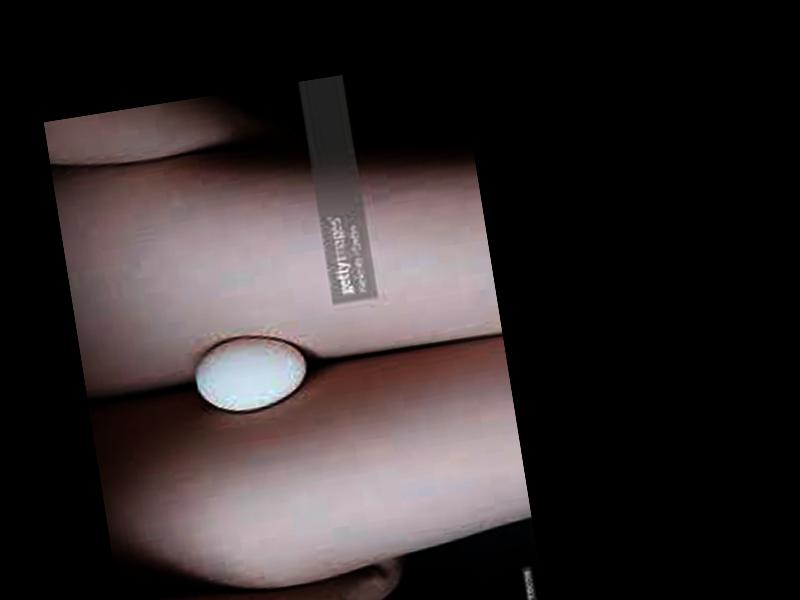Eggs: (191, 328, 311, 418)
